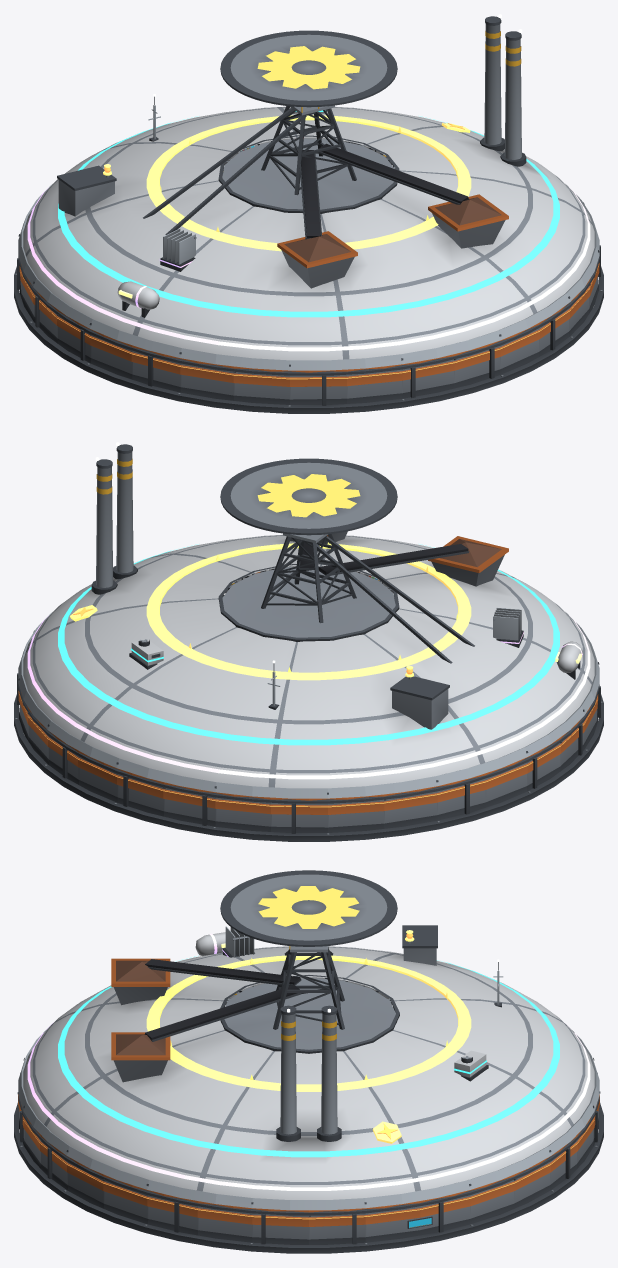
The model's file is mine_xl.glb.
3 views of the same model, one above another, from view 1: azimuth 30°, elevation 25°; view 2: azimuth 150°, elevation 25°; view 3: azimuth 270°, elevation 25° (orthographic).
Visible parts, largest first — view 1: Roof, Base, L5, L3, L4, Wall_21, Wall_20, Wall_22, Wall_19, Wall_23, Wall_18, Wall_24 (+10 smaller); view 2: Roof, Base, L5, L3, L4, Wall_10, Wall_11, Wall_09, Wall_12, Wall_08, Wall_13, Wall_07 (+10 smaller); view 3: Roof, Base, L5, L3, Wall_00, Wall_31, Wall_30, Wall_01, Wall_29, Wall_02, Wall_28, Wall_03 (+10 smaller).
Part boxes in pixels (<box>): Roof: <box>18,14,599,375</box>; Base: <box>14,167,603,413</box>; L5: <box>103,115,471,251</box>; L3: <box>58,109,559,317</box>; L4: <box>117,228,196,317</box>; Wall_21: <box>290,374,346,405</box>; Wall_20: <box>233,371,289,404</box>; Wall_22: <box>347,369,402,403</box>; Wall_19: <box>180,363,233,400</box>; Wall_23: <box>402,359,454,398</box>; Wall_18: <box>131,350,180,392</box>; Wall_24: <box>454,346,500,388</box>; Roof: <box>18,442,599,803</box>; Base: <box>14,595,603,841</box>; L5: <box>70,542,471,680</box>; L3: <box>58,544,559,745</box>; L4: <box>493,607,582,679</box>; Wall_10: <box>271,802,327,833</box>; Wall_11: <box>328,799,384,832</box>; Wall_09: <box>215,797,270,831</box>; Wall_12: <box>384,791,437,828</box>; Wall_08: <box>163,787,215,826</box>; Wall_13: <box>437,778,486,820</box>; Wall_07: <box>117,774,163,816</box>; Roof: <box>18,870,599,1215</box>; Base: <box>14,1010,603,1253</box>; L5: <box>146,930,471,1143</box>; L3: <box>58,955,559,1157</box>; Wall_00: <box>309,1213,365,1244</box>; Wall_31: <box>252,1213,308,1244</box>; Wall_30: <box>197,1206,252,1242</box>; Wall_01: <box>365,1206,420,1242</box>; Wall_29: <box>147,1195,197,1235</box>; Wall_02: <box>420,1195,470,1235</box>; Wall_28: <box>103,1179,147,1224</box>; Wall_03: <box>470,1180,514,1224</box>.
Bounding box in the file's own units: 23.15 × 9.59 × 23.15.
